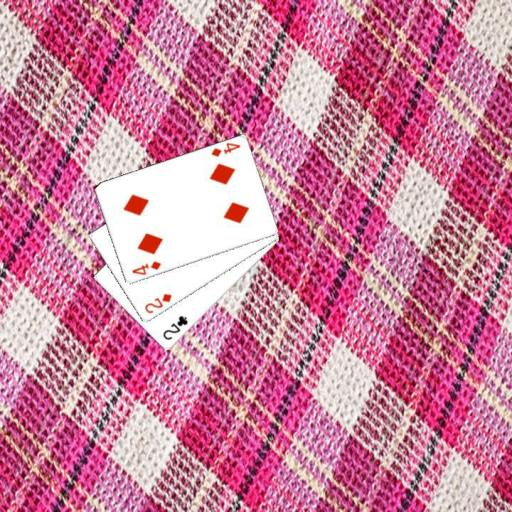2C: (159, 313, 189, 341)
2D: (142, 291, 174, 315)
4D: (208, 140, 242, 159), (129, 258, 162, 277)
